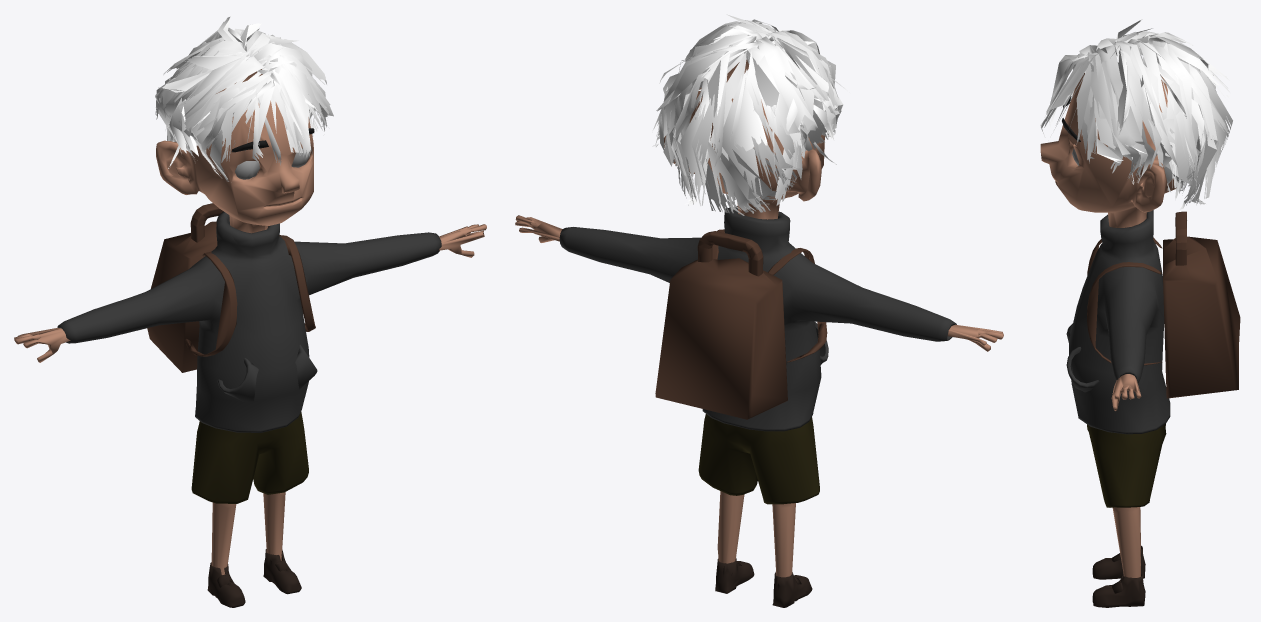
Rendered from skid.glb.
The picture shows the model from 3 angles, left to right: view 1: azimuth 30°, elevation 25°; view 2: azimuth 150°, elevation 25°; view 3: azimuth 270°, elevation 25°; orthographic projection. The views are drawn at different scales.
Visible parts, largest first — view 1: Outfits, Hair, Body, BackPack; view 2: Outfits, Hair, BackPack, Body; view 3: Outfits, Hair, BackPack, Body.
Part boxes in pixels (x1,y1,x2,y2): Outfits: [57, 211, 441, 607]; Hair: [155, 16, 333, 181]; Body: [14, 69, 486, 574]; BackPack: [147, 203, 315, 372]; Outfits: [559, 206, 956, 607]; Hair: [652, 14, 849, 215]; BackPack: [655, 229, 827, 419]; Body: [515, 59, 1003, 577]; Outfits: [1066, 210, 1170, 607]; Hair: [1040, 20, 1232, 209]; BackPack: [1087, 211, 1240, 398]; Body: [1040, 73, 1176, 577].
Size of the model in its own units: 1.14 by 1.28 by 0.4454.
Materials: 11 (1 with a texture image).
